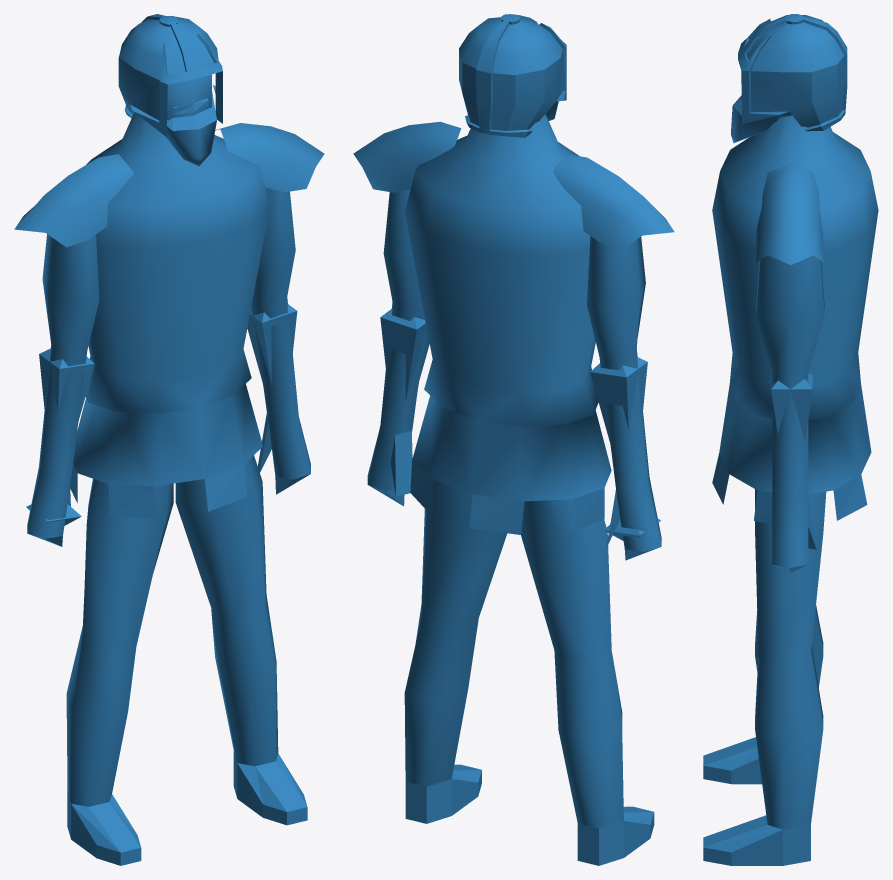
Rendered from caballero.glb.
The picture shows the model from 3 angles, left to right: view 1: azimuth 30°, elevation 25°; view 2: azimuth 150°, elevation 25°; view 3: azimuth 270°, elevation 25°; orthographic projection. The views are drawn at different scales.
Visible parts, largest first — view 1: Object001; view 2: Object001; view 3: Object001.
Boxes of the visible parts, x1,y1,x2,y2 form: Object001: (14, 14, 324, 865); Object001: (353, 14, 674, 865); Object001: (703, 14, 878, 865).
Size of the model in its own units: 0.8891 by 2.17 by 0.4307.
